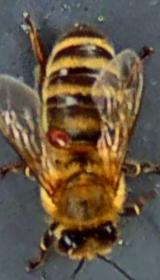varroa_mite: (35, 120, 74, 146)
